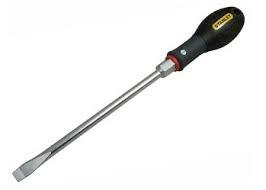screwdriver: (10, 5, 244, 182)
